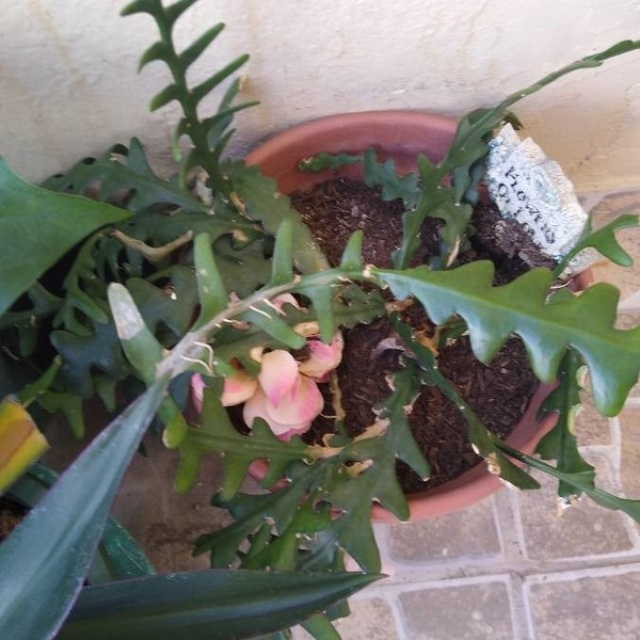obstacle: (11, 7, 617, 612)
